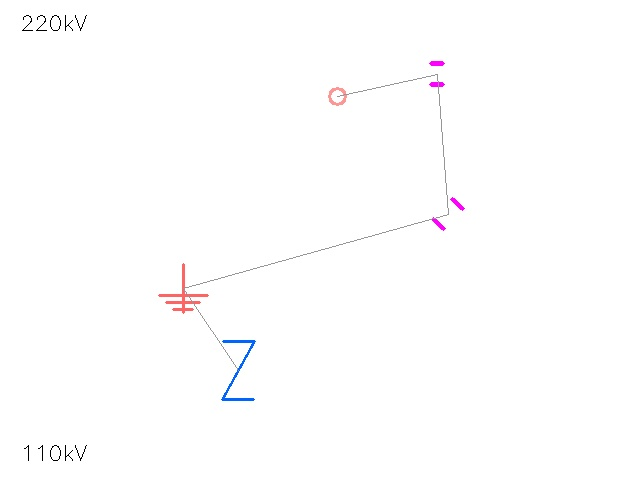capacitor: (425, 191, 471, 237), (419, 56, 455, 92)
circuit_breaker: (206, 338, 270, 402)
disconnect_switch: (320, 79, 354, 113)
ground: (159, 264, 207, 312)
